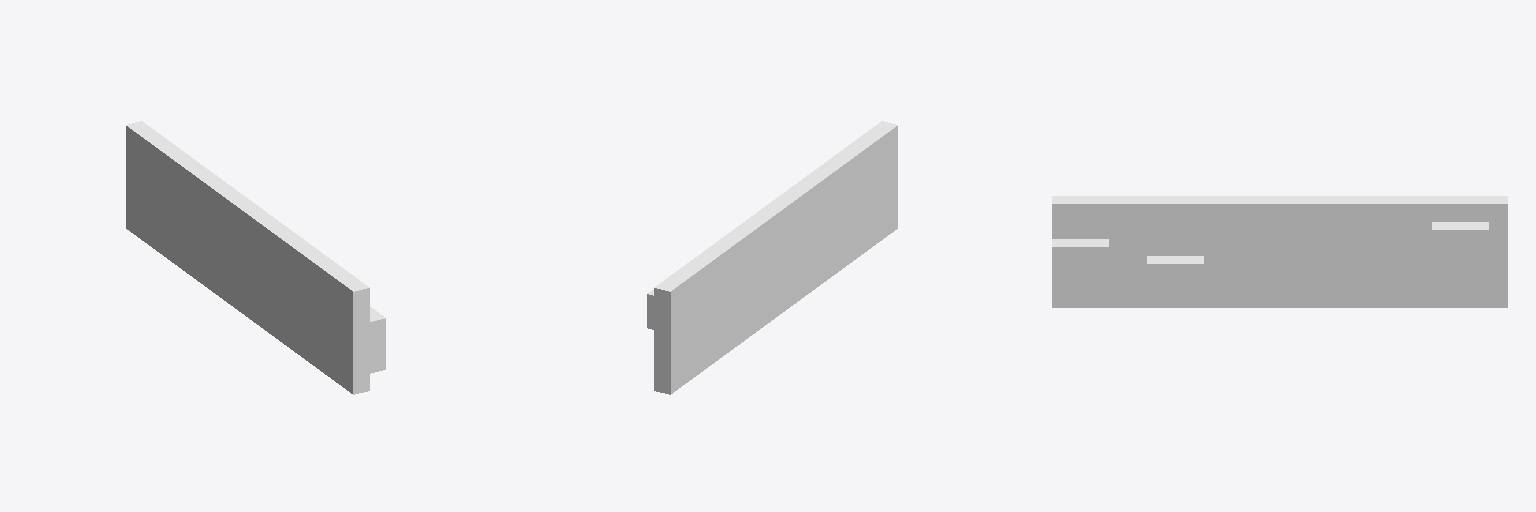
File: SmallBuilding04-9.obj
3 renders of one model, left to right at view 1: azimuth 30°, elevation 25°; view 2: azimuth 150°, elevation 25°; view 3: azimuth 270°, elevation 25°, orthographic.
Visible parts, largest first — view 1: object 1; view 2: object 1; view 3: object 1.
Boxes of the visible parts, <box> form: object 1: <box>126,121,385,394</box>; object 1: <box>647,121,897,394</box>; object 1: <box>1052,196,1507,307</box>.
Size of the model in its own units: 0.2 by 0.6 by 2.4.